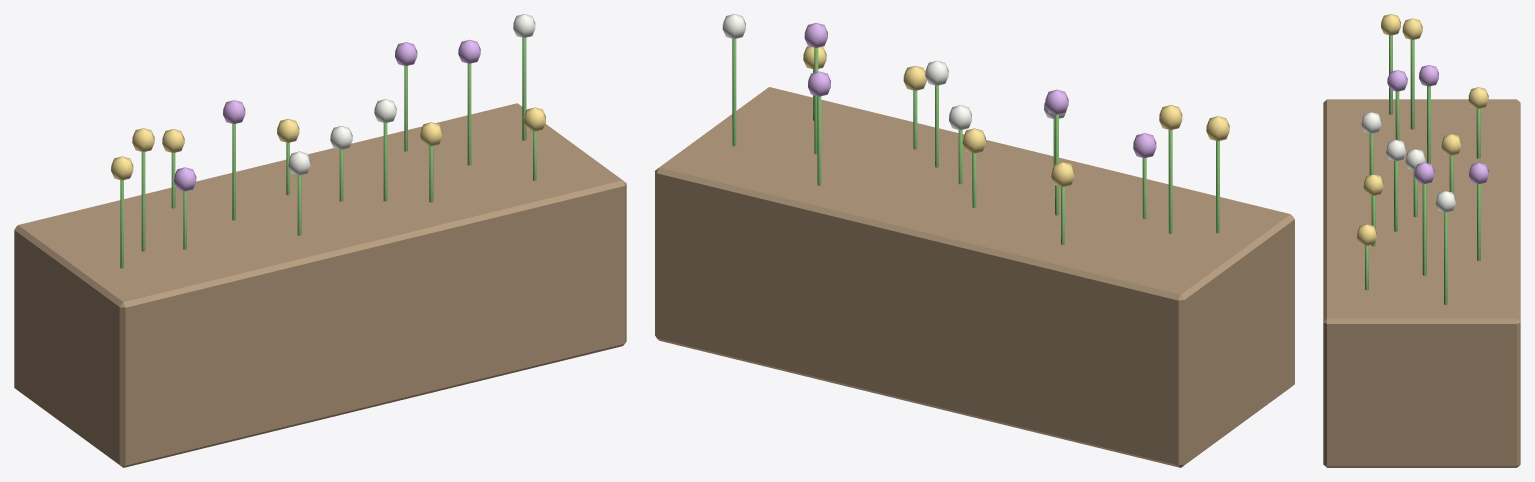
The model's file is planter_box.glb.
3 views of the same model, side by side, from view 1: azimuth 30°, elevation 25°; view 2: azimuth 150°, elevation 25°; view 3: azimuth 270°, elevation 25° (orthographic). The views are drawn at different scales.
Parts seen in each view (by area): view 1: planter_box; view 2: planter_box; view 3: planter_box.
Boxes of the visible parts, <box> form: planter_box: <box>14,14,626,467</box>; planter_box: <box>655,14,1294,467</box>; planter_box: <box>1323,14,1520,467</box>.
Bounding box in the file's own units: 1.6 × 0.8787 × 0.6.
